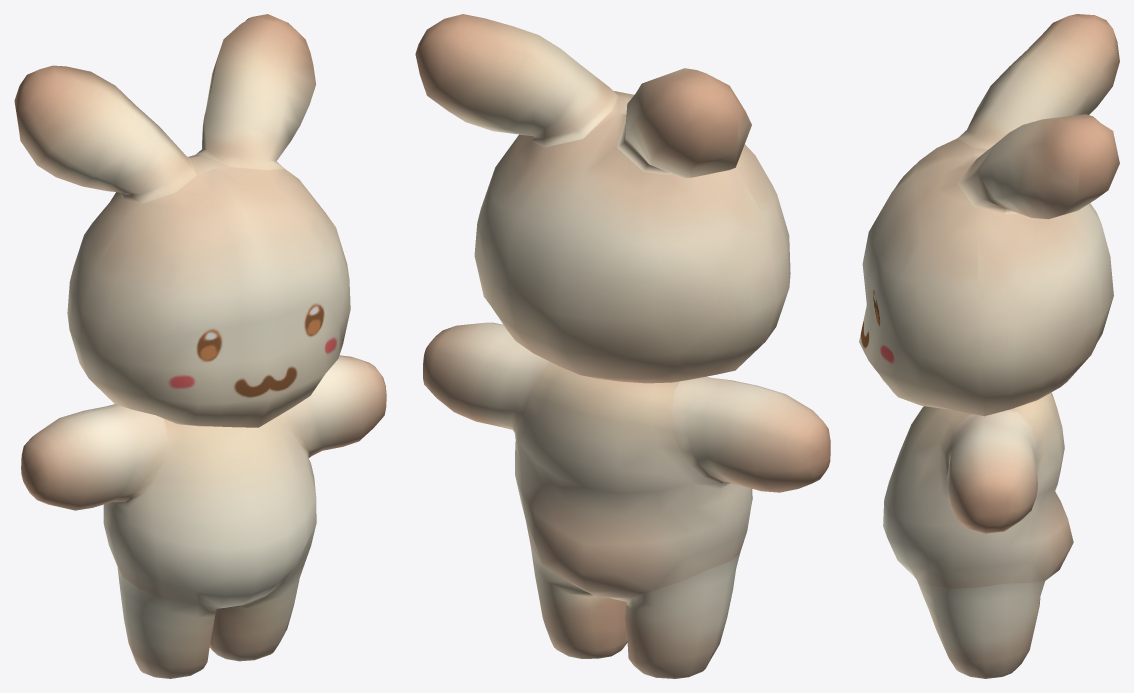
Rendered from Jellyman.FBX.
3 views of the same model, side by side, from view 1: azimuth 30°, elevation 25°; view 2: azimuth 150°, elevation 25°; view 3: azimuth 270°, elevation 25° (orthographic). The views are drawn at different scales.
Visible parts, largest first — view 1: Jellyman; view 2: Jellyman; view 3: Jellyman.
Boxes of the visible parts, x1,y1,x2,y2 form: Jellyman: [14, 14, 386, 678]; Jellyman: [415, 14, 830, 678]; Jellyman: [859, 14, 1119, 678].
Size of the model in its own units: 82.02 by 128 by 52.3.
